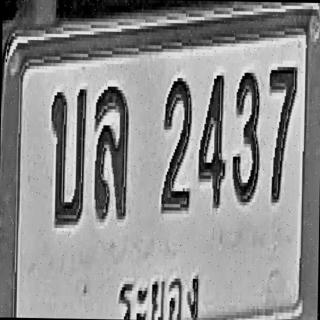A26: (48, 86, 86, 225)
A36: (93, 83, 129, 220)
N02: (160, 76, 192, 212)
N03: (232, 69, 260, 202)
N04: (196, 72, 226, 208)
N07: (267, 63, 297, 203)
P53: (115, 264, 200, 320)
